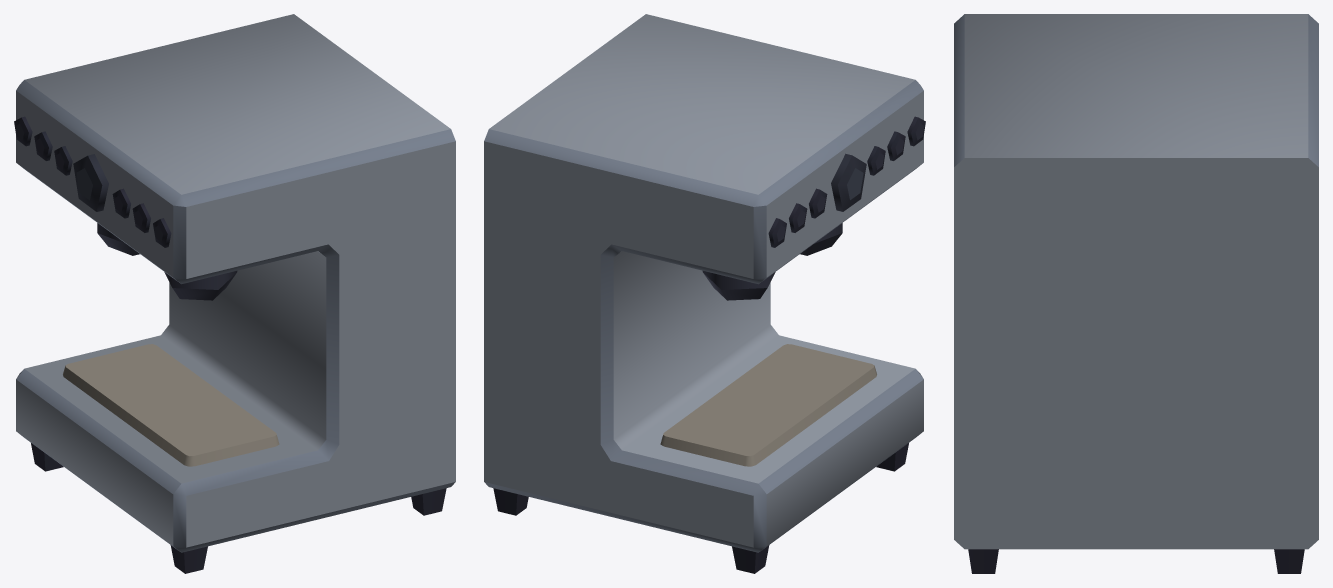
The model's file is CoffeeMachine_1_G.fbx.
The picture shows the model from 3 angles, left to right: view 1: azimuth 30°, elevation 25°; view 2: azimuth 150°, elevation 25°; view 3: azimuth 270°, elevation 25°; orthographic projection. The views are drawn at different scales.
Visible parts, largest first — view 1: CoffeeMachine_1_G; view 2: CoffeeMachine_1_G; view 3: CoffeeMachine_1_G.
Part boxes in pixels (x1,y1,x2,y2): CoffeeMachine_1_G: (14, 14, 455, 573); CoffeeMachine_1_G: (484, 14, 925, 573); CoffeeMachine_1_G: (954, 14, 1318, 573).
Bounding box in the file's own units: 48.51 × 61.74 × 48.68.
